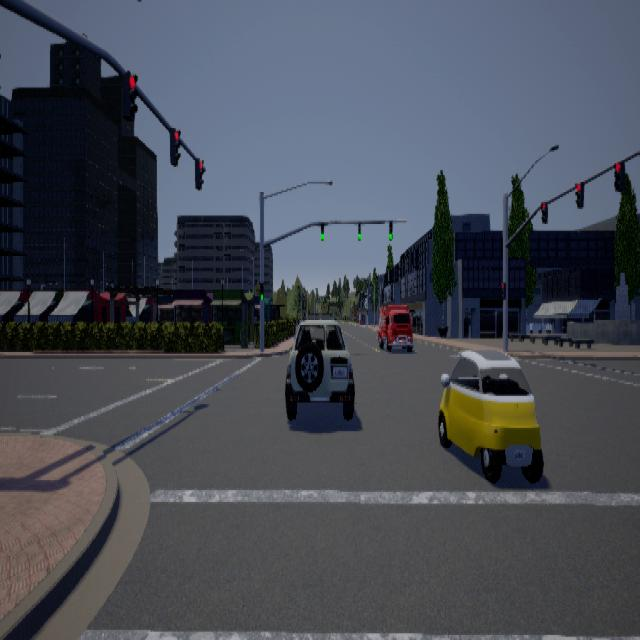green_light: (389, 220, 393, 240), (260, 283, 264, 300), (321, 221, 324, 240), (358, 221, 361, 239)
red_light: (124, 69, 139, 120), (171, 126, 182, 165), (615, 160, 626, 190), (196, 156, 205, 188), (576, 180, 585, 207), (542, 200, 549, 222), (501, 281, 507, 298)
vehicle: (439, 348, 545, 482), (286, 312, 356, 419), (379, 303, 415, 350)
